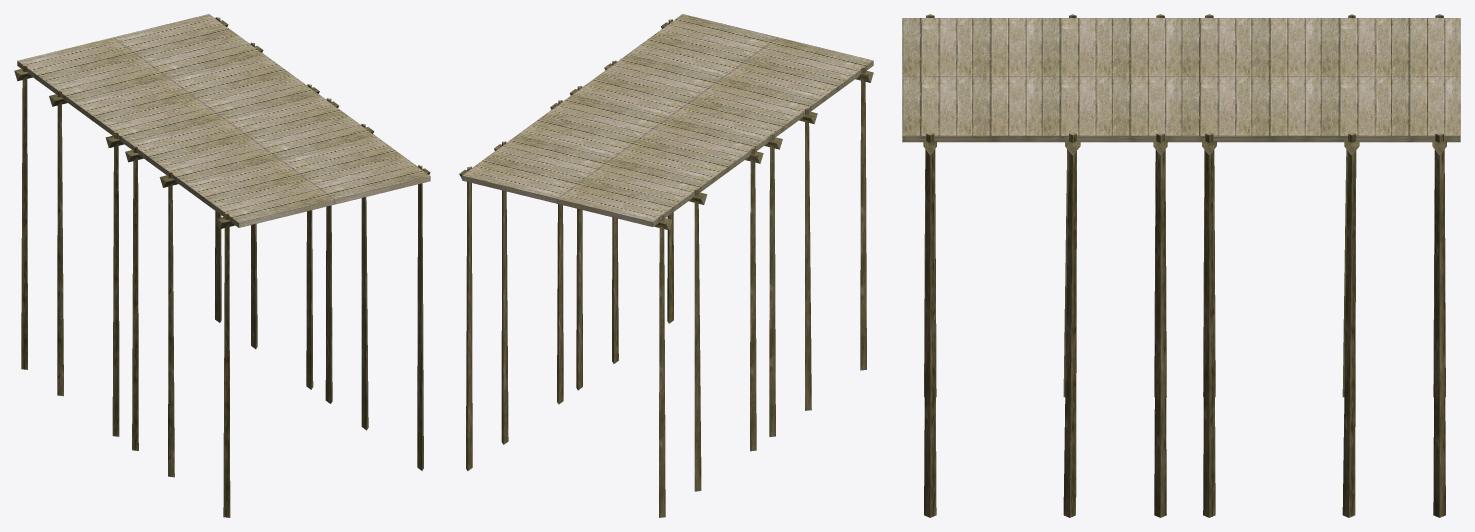
Rendered from thm_endr_lake_platform_rectangle_s01_l2.fbx.
3 views of the same model, side by side, from view 1: azimuth 30°, elevation 25°; view 2: azimuth 150°, elevation 25°; view 3: azimuth 270°, elevation 25° (orthographic). The views are drawn at different scales.
Parts seen in each view (by area): view 1: mesh_node; view 2: mesh_node; view 3: mesh_node.
Boxes of the visible parts, x1=… form: mesh_node: x1=14, y1=14, x2=430, y2=517; mesh_node: x1=459, y1=14, x2=873, y2=517; mesh_node: x1=902, y1=14, x2=1460, y2=517.
Bounding box in the file's own units: 8.68 × 12.07 × 16.
2 materials, 2 textured.
